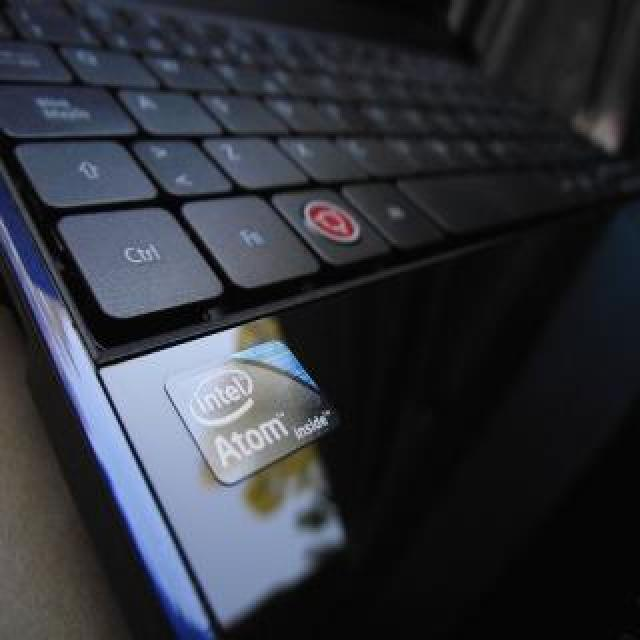laptop_computer: (9, 11, 640, 638)
